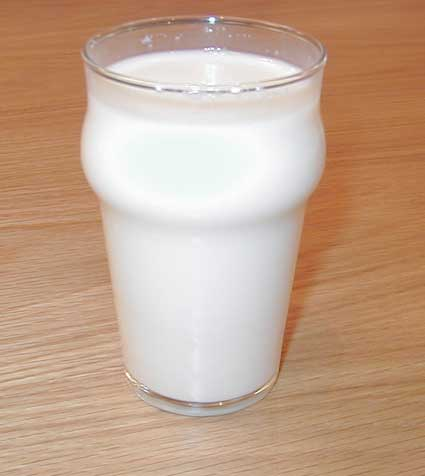glass of milk: (110, 43, 291, 405)
